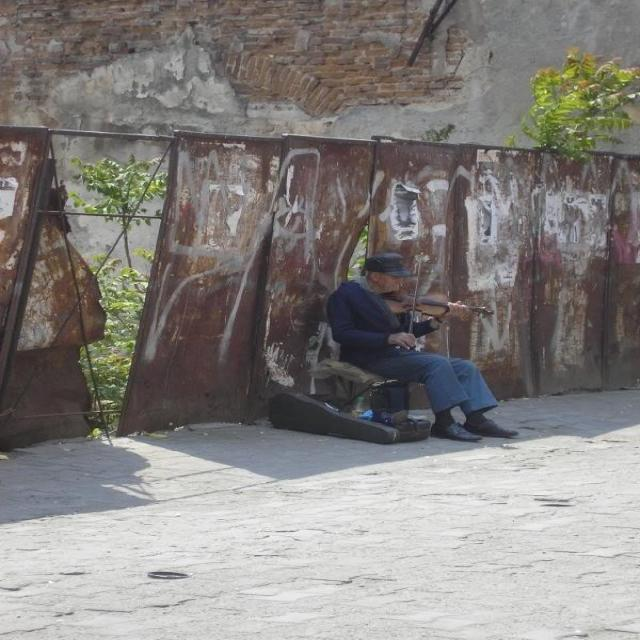violin: (379, 282, 496, 318)
